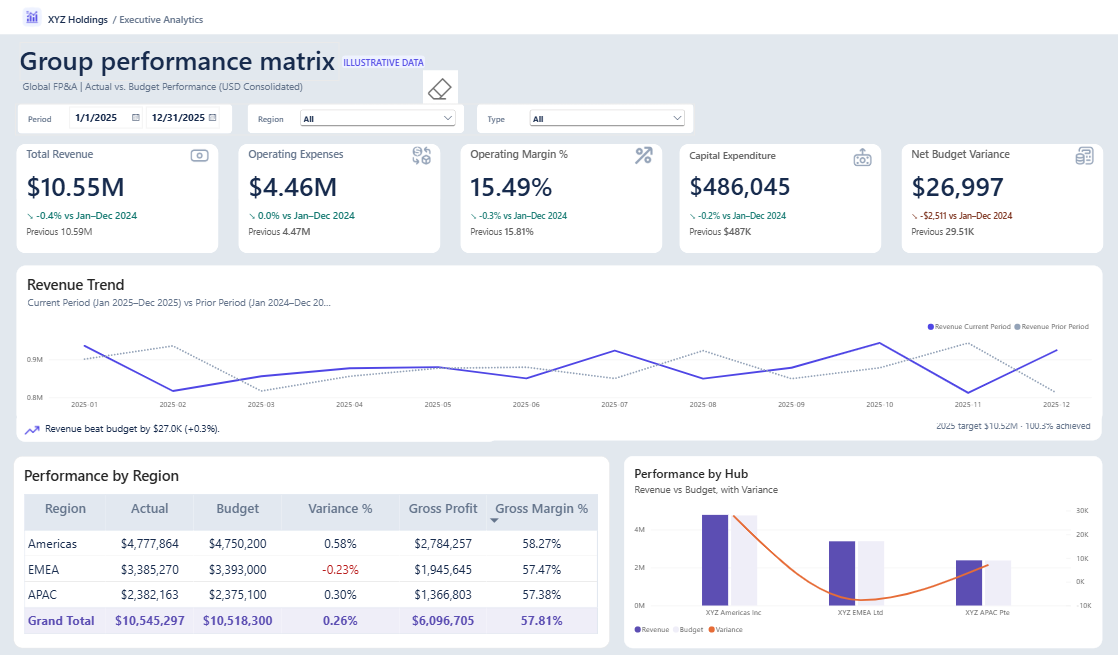

The page's visual inventory and layout, read from the dashboard file:
{"tool":"powerbi","page":{"name":"Page 1","canvas":[1920,1080],"ordinal":0},"visuals":[{"type":"shape","box":[0,0,1919.1,56],"z":0},{"type":"textbox","box":[99,18.6,113.3,21.9],"z":0,"group":"g1"},{"type":"cardVisual","title":"Actual Revenue","fields":{"Data":["All Measures.Actual Revenue"]},"box":[45.6,236.8,331,179],"z":0,"group":"g2"},{"type":"textbox","box":[203.9,18.6,183.2,21.9],"z":1000,"group":"g1"},{"type":"textbox","box":[51,69.8,525.3,62.1],"z":1000},{"type":"cardVisual","title":"Actual Revenue","fields":{"Data":["All Measures.Actual OPEX"]},"box":[410.6,237,331,179],"z":1000,"group":"g2"},{"type":"image","box":[39.1,5.6,66,46],"z":2000},{"type":"cardVisual","title":"Actual Revenue","fields":{"Data":["All Measures.Actual CAPEX"]},"box":[1134.2,237,331,179],"z":2000,"group":"g2"},{"type":"shape","box":[580.4,90,136,21],"z":3000},{"type":"cardVisual","title":"Actual Revenue","fields":{"Data":["All Measures.Operating Margin %"]},"box":[774.2,237,331,179],"z":3000,"group":"g2"},{"type":"group","id":"g1","title":"Group 1","box":[99,18.6,288.1,21.9],"z":4000},{"type":"cardVisual","title":"Actual Revenue","fields":{"Data":["All Measures.Variance"]},"box":[1496.6,236,331,179],"z":4000,"group":"g2"},{"type":"textbox","box":[55.7,130,475.7,28.6],"z":5000},{"type":"group","id":"g2","title":"Group 2","box":[45.6,236,1782,180],"z":6000},{"type":"group","id":"g3","title":"Group 4","box":[45,170.6,356.7,50.6],"z":7000,"group":"g4"},{"type":"group","id":"g4","title":"Group 3","box":[45,170.6,1112.9,50.6],"z":7000},{"type":"shape","title":"Period","box":[45,170.6,356.7,49.6],"z":7000,"group":"g3"},{"type":"shape","title":"Period","box":[426,171,355.6,49],"z":7000,"group":"g5"},{"type":"shape","title":"Period","box":[802.8,171,355.6,49],"z":7000,"group":"g6"},{"type":"group","id":"g5","title":"Group 4","box":[426,171,355.6,50.2],"z":8000,"group":"g4"},{"type":"slicer","fields":{"Values":["DimDate.FullDate"]},"box":[125.8,171.6,266.9,49.6],"z":8000,"group":"g3"},{"type":"slicer","fields":{"Values":["DimGeneralLedger.AccountName"]},"box":[885.2,176.2,265.2,35.5],"z":8000,"group":"g6"},{"type":"slicer","fields":{"Values":["DimLegalEntity.Region"]},"box":[508.2,176.5,265,44.7],"z":8000,"group":"g5"},{"type":"textbox","box":[51.1,477.8,331.1,28.9],"z":8000},{"type":"group","id":"g6","title":"Group 4","box":[802.8,171,355.1,49.3],"z":9000,"group":"g4"},{"type":"image","box":[51.5,823,33.3,20.2],"z":9000},{"type":"cardVisual","fields":{"Data":["All Measures.Trend Dynamic Target Footer"]},"box":[802.6,672.7,1024.7,50.6],"z":10000},{"type":"cardVisual","fields":{"Data":["All Measures.Trend Dynamic Footer Text"]},"box":[46,673.5,789.6,50.7],"z":10000,"group":"g7"},{"type":"lineClusteredColumnComboChart","title":"Performance by Hub","fields":{"Category":["DimLegalEntity.EntityName"],"Y":["All Measures.Actual Revenue","All Measures.Budget Revenue"],"Y2":["All Measures.Revenue Variance"]},"box":[40,747.5,1787.5,315],"z":10000,"group":"g9"},{"type":"group","id":"g7","title":"Group 5","box":[46,436,1782,288.2],"z":11000,"group":"g8"},{"type":"group","id":"g8","title":"Group 6","box":[46,436,1782,288.2],"z":11000},{"type":"lineChart","title":"Revenue Trend","fields":{"Category":["DimDate.FiscalYearMonth"],"Y":["All Measures.Revenue Current Period","All Measures.Revenue Prior Period"]},"box":[46.7,436,1781.3,258.7],"z":11000,"group":"g7"},{"type":"cardVisual","fields":{"Data":["All Measures.Trend Header Subtitle"]},"box":[62,484.2,521.5,22.8],"z":12000,"group":"g8"},{"type":"group","id":"g9","title":"Group 7","box":[40,747.5,1787.5,315],"z":12000},{"type":"cardVisual","fields":{"Data":["All Measures.Trend Header Subtitle"]},"box":[54,791.3,1101.9,22.9],"z":12000,"group":"g9"},{"type":"image","box":[44,694,56,24],"z":13000}]}

Visuals, with their boxes on the page's 1920x1080 design canvas (x1, y1, x2, y2). These are canvas units, not pixel positions in the 1118x655 screenshot, which may show the page scaled, cropped or inside an application window:
shape: [left=0, top=0, right=1919, bottom=56]
textbox: [left=99, top=19, right=212, bottom=40]
"Actual Revenue" cardVisual: [left=46, top=237, right=377, bottom=416]
textbox: [left=204, top=19, right=387, bottom=40]
textbox: [left=51, top=70, right=576, bottom=132]
"Actual Revenue" cardVisual: [left=411, top=237, right=742, bottom=416]
image: [left=39, top=6, right=105, bottom=52]
"Actual Revenue" cardVisual: [left=1134, top=237, right=1465, bottom=416]
shape: [left=580, top=90, right=716, bottom=111]
"Actual Revenue" cardVisual: [left=774, top=237, right=1105, bottom=416]
"Group 1" group: [left=99, top=19, right=387, bottom=40]
"Actual Revenue" cardVisual: [left=1497, top=236, right=1828, bottom=415]
textbox: [left=56, top=130, right=531, bottom=159]
"Group 2" group: [left=46, top=236, right=1828, bottom=416]
"Group 4" group: [left=45, top=171, right=402, bottom=221]
"Group 3" group: [left=45, top=171, right=1158, bottom=221]
"Period" shape: [left=45, top=171, right=402, bottom=220]
"Period" shape: [left=426, top=171, right=782, bottom=220]
"Period" shape: [left=803, top=171, right=1158, bottom=220]
"Group 4" group: [left=426, top=171, right=782, bottom=221]
slicer - DimDate.FullDate: [left=126, top=172, right=393, bottom=221]
slicer - DimGeneralLedger.AccountName: [left=885, top=176, right=1150, bottom=212]
slicer - DimLegalEntity.Region: [left=508, top=176, right=773, bottom=221]
textbox: [left=51, top=478, right=382, bottom=507]
"Group 4" group: [left=803, top=171, right=1158, bottom=220]
image: [left=52, top=823, right=85, bottom=843]
cardVisual - All Measures.Trend Dynamic Target Footer: [left=803, top=673, right=1827, bottom=723]
cardVisual - All Measures.Trend Dynamic Footer Text: [left=46, top=674, right=836, bottom=724]
"Performance by Hub" lineClusteredColumnComboChart: [left=40, top=748, right=1828, bottom=1062]
"Group 5" group: [left=46, top=436, right=1828, bottom=724]
"Group 6" group: [left=46, top=436, right=1828, bottom=724]
"Revenue Trend" lineChart: [left=47, top=436, right=1828, bottom=695]
cardVisual - All Measures.Trend Header Subtitle: [left=62, top=484, right=584, bottom=507]
"Group 7" group: [left=40, top=748, right=1828, bottom=1062]
cardVisual - All Measures.Trend Header Subtitle: [left=54, top=791, right=1156, bottom=814]
image: [left=44, top=694, right=100, bottom=718]
